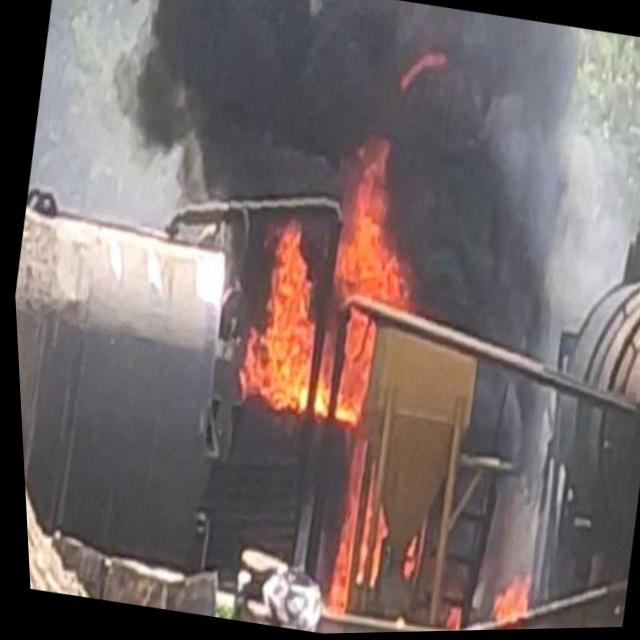fire: (216, 111, 445, 437), (306, 433, 402, 628), (468, 566, 533, 632), (425, 599, 463, 633), (393, 530, 419, 578)
